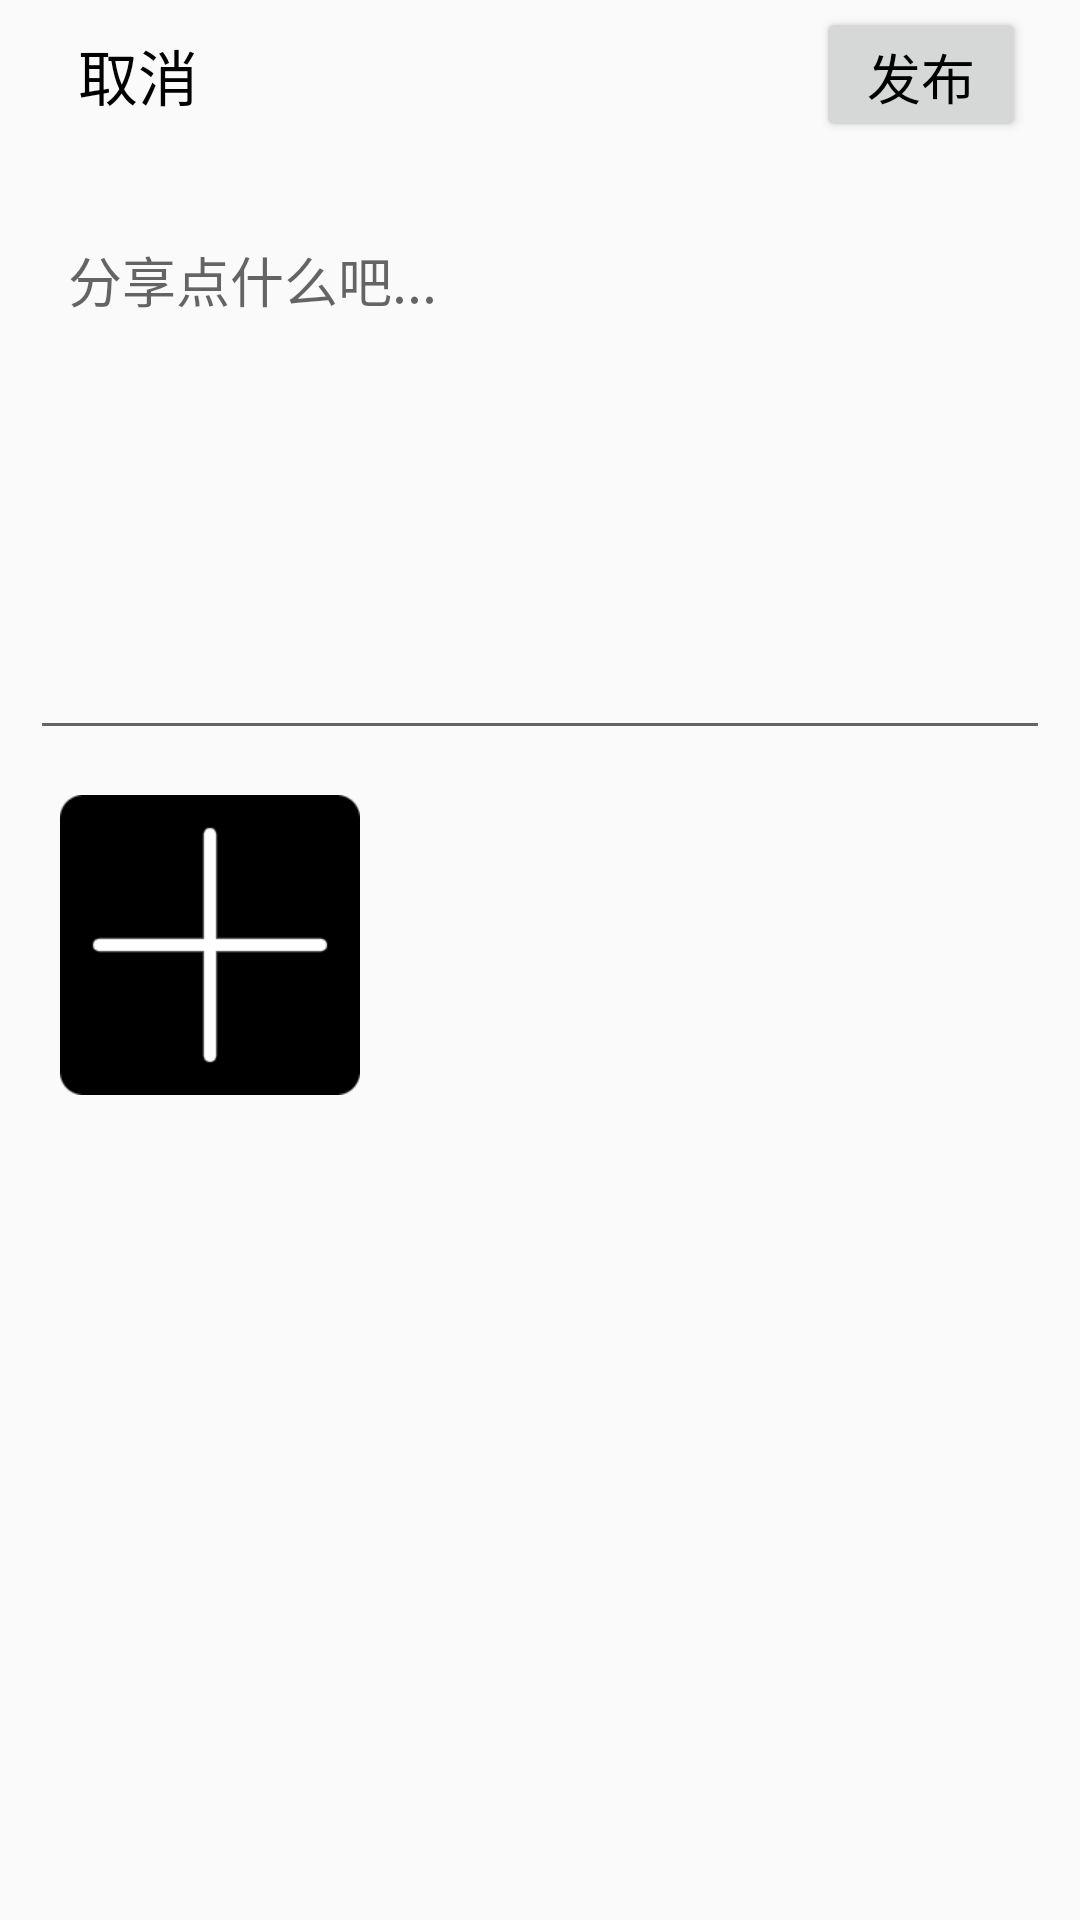

Where icons sit on this 1080px×1920px app screen, as (x1, y1, x2, y2):
addimage: (60, 795, 360, 1095)
